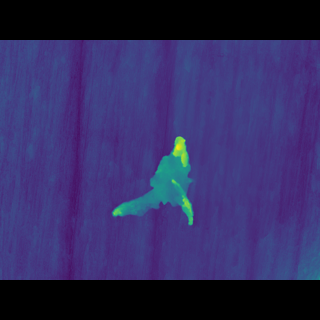Loch: (109, 140, 198, 210)
